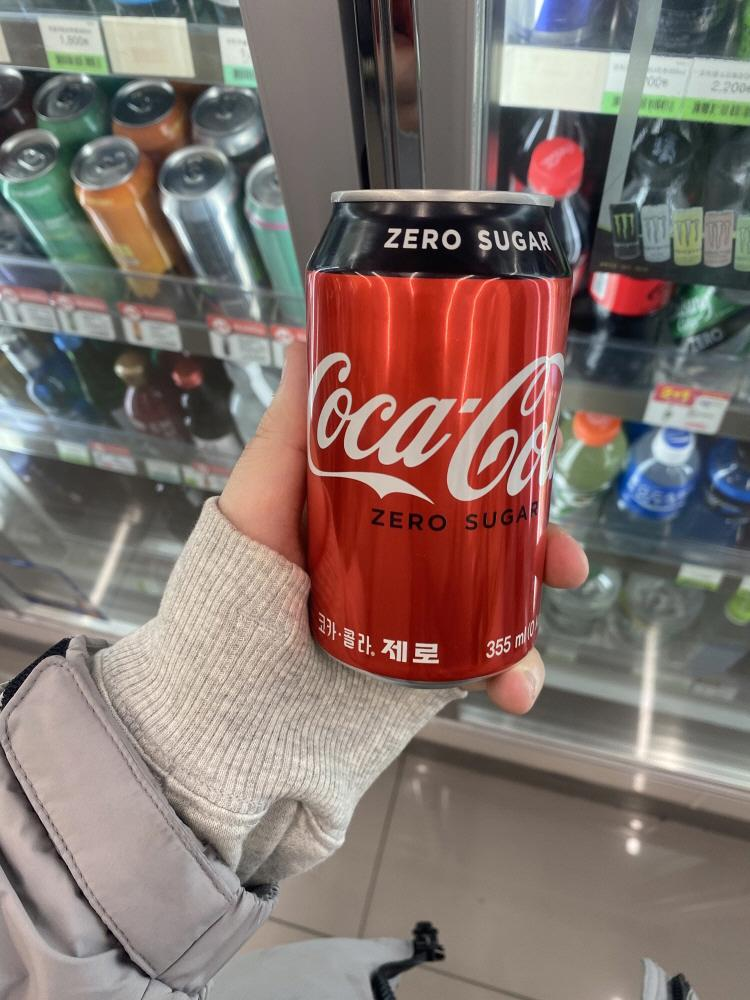cocacola_zero: (291, 180, 585, 694)
